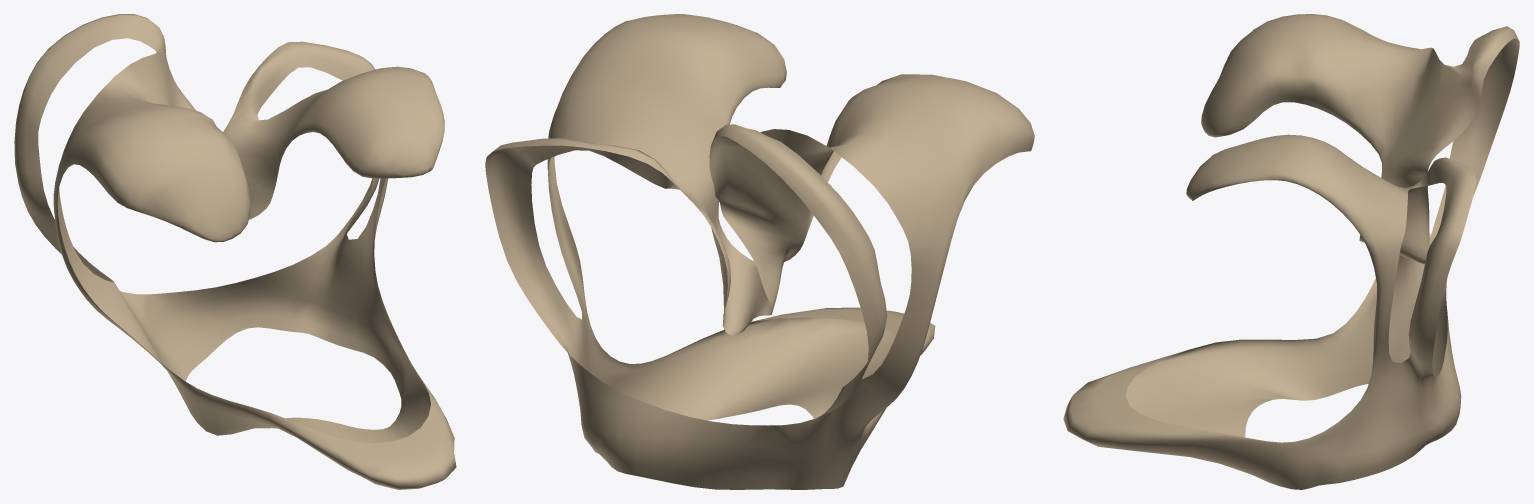
The picture shows the model from 3 angles, left to right: view 1: azimuth 30°, elevation 25°; view 2: azimuth 150°, elevation 25°; view 3: azimuth 270°, elevation 25°; orthographic projection. The views are drawn at different scales.
Parts seen in each view (by area): view 1: 左侧膝关节囊; view 2: 左侧膝关节囊; view 3: 左侧膝关节囊.
Part boxes in pixels (x1,y1,x2,y2): 左侧膝关节囊: (14, 14, 456, 489); 左侧膝关节囊: (485, 14, 1034, 489); 左侧膝关节囊: (1063, 14, 1519, 489).
Bounding box in the file's own units: 0.116 × 0.1121 × 0.1266.
